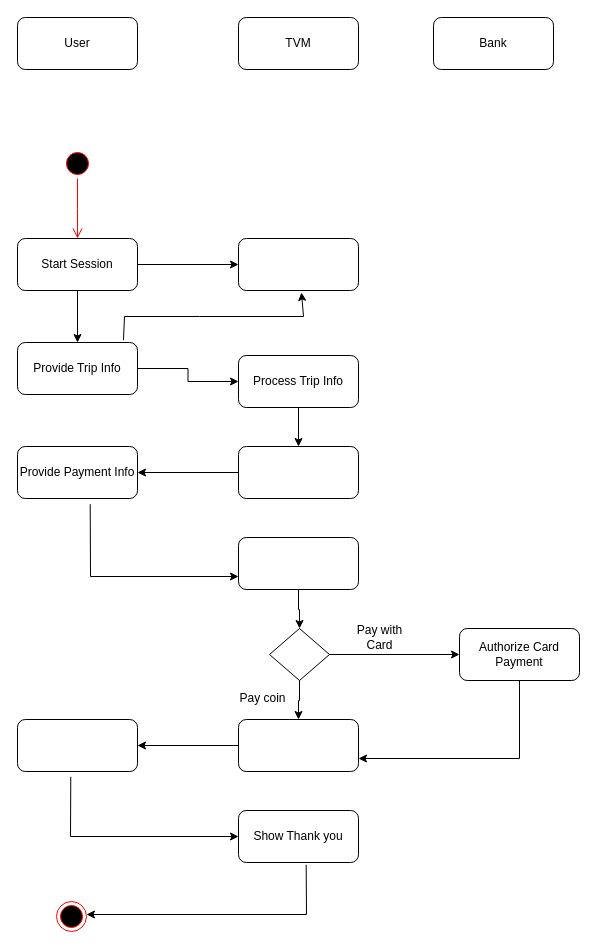
Some shapes in this 597 by 949 pixel diagram are drawn without their labels. Here are the shapes that lost their labels. From the top down, the centre of each, then its label:
(298,264): Request Trip Info
(298,472): Request Payment
(298,563): Process Payment
(77,745): Get Ticket
(298,745): Dispense Ticket
